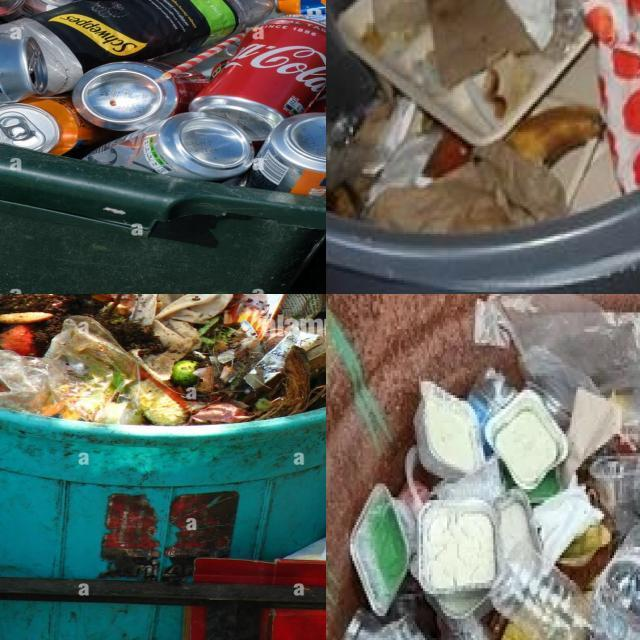Disposable: (338, 0, 590, 146), (485, 389, 568, 490), (350, 484, 411, 616), (417, 499, 497, 597), (414, 382, 485, 479), (590, 452, 640, 537)
Garbage: (345, 294, 640, 640), (326, 0, 640, 234), (0, 294, 326, 425)
Plastic_Bag: (477, 294, 640, 445), (584, 0, 640, 192)
Plastic_Straw: (157, 33, 247, 82)
Plastic_bottle: (0, 0, 275, 96), (490, 531, 589, 640), (591, 523, 640, 640), (438, 613, 489, 640)
Plastic_wraper: (223, 294, 326, 335)
can: (190, 18, 326, 141), (84, 112, 253, 180), (73, 62, 207, 131), (0, 97, 124, 155), (0, 97, 117, 154), (249, 112, 326, 195)
